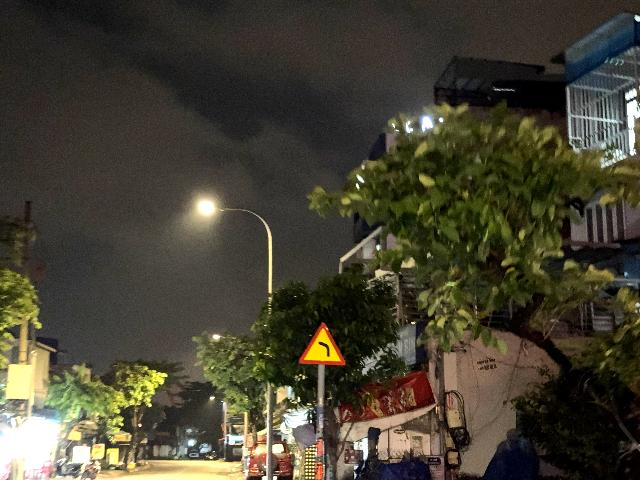cho-ngoat-nguy-hiem-ben-trai: (298, 321, 346, 366)
